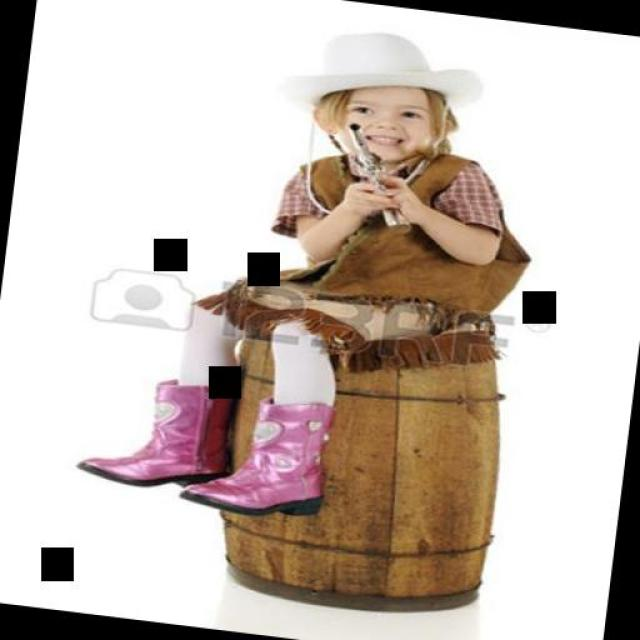gun: (331, 116, 420, 229)
